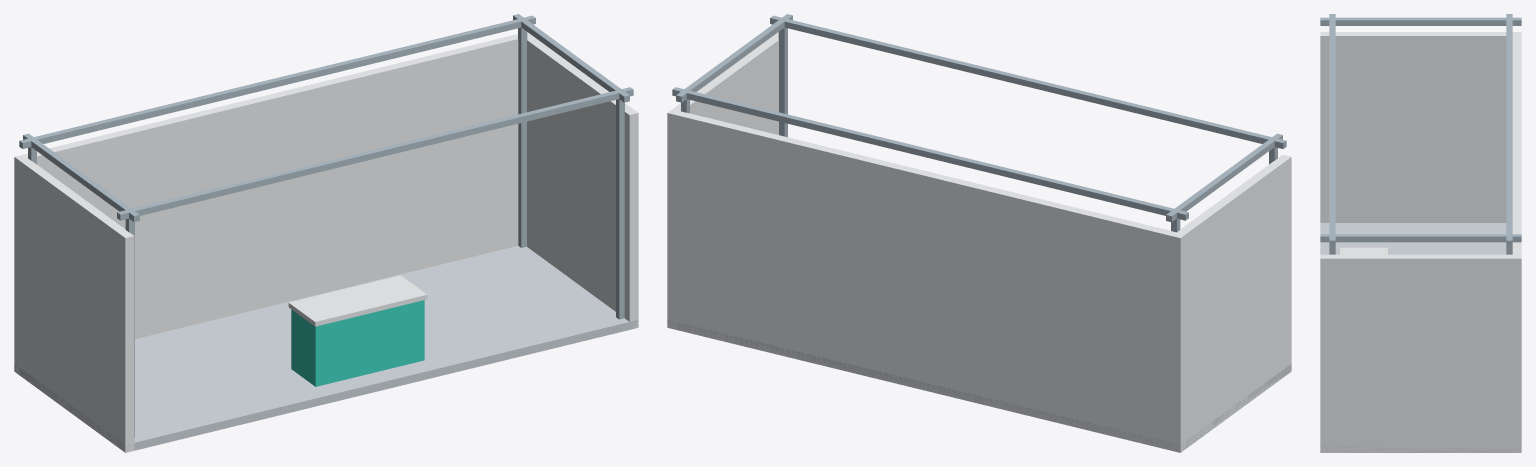
The picture shows the model from 3 angles, left to right: view 1: azimuth 30°, elevation 25°; view 2: azimuth 150°, elevation 25°; view 3: azimuth 270°, elevation 25°; orthographic projection. The views are drawn at different scales.
Parts seen in each view (by area): view 1: Exhibition Booth Concept; view 2: Exhibition Booth Concept; view 3: Exhibition Booth Concept.
Part boxes in pixels (bbox=[...]): Exhibition Booth Concept: bbox=[14, 14, 638, 452]; Exhibition Booth Concept: bbox=[667, 14, 1291, 452]; Exhibition Booth Concept: bbox=[1320, 14, 1521, 452].
Size of the model in its own units: 8 by 3.49 by 3.
